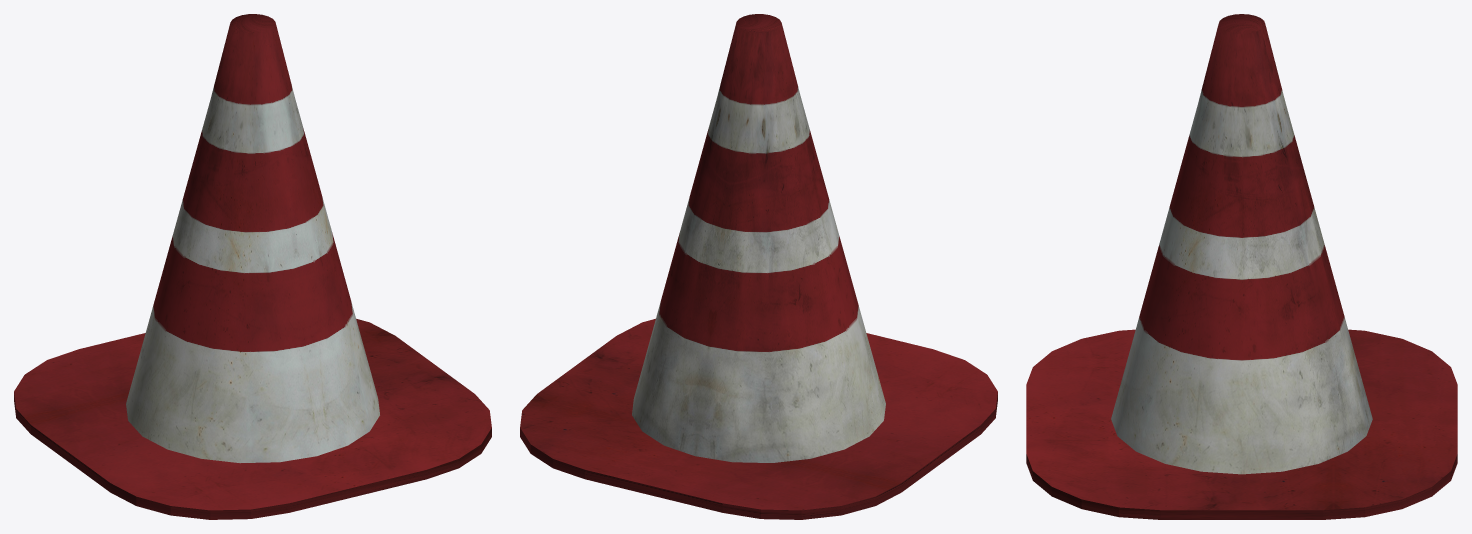
Rendered from roadblock_signal.fbx.
The picture shows the model from 3 angles, left to right: view 1: azimuth 30°, elevation 25°; view 2: azimuth 150°, elevation 25°; view 3: azimuth 270°, elevation 25°; orthographic projection. The views are drawn at different scales.
Visible parts, largest first — view 1: polySurface254; view 2: polySurface254; view 3: polySurface254.
Boxes of the visible parts, x1,y1,x2,y2 form: polySurface254: (14, 14, 491, 519); polySurface254: (520, 14, 997, 519); polySurface254: (1026, 14, 1457, 519).
Size of the model in its own units: 95.1 by 98.53 by 95.1.
